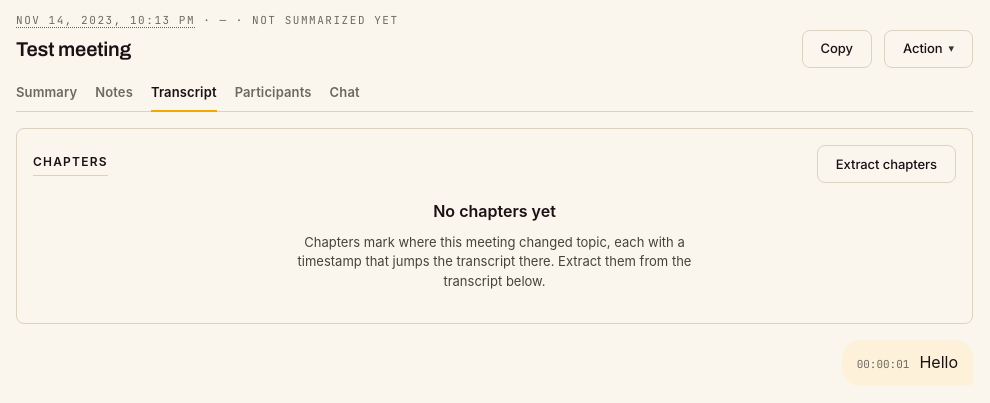
Test case: SummaryPane regen-summary style flyout › no title-row style dropdown; flyout disabled without a summary
The width and height of the screenshot is (990, 403).
What coordinates should you click on to do the following:
click the button "Action ▾"
I would click on:
 (928, 49)
Its box is [884,30,973,68].
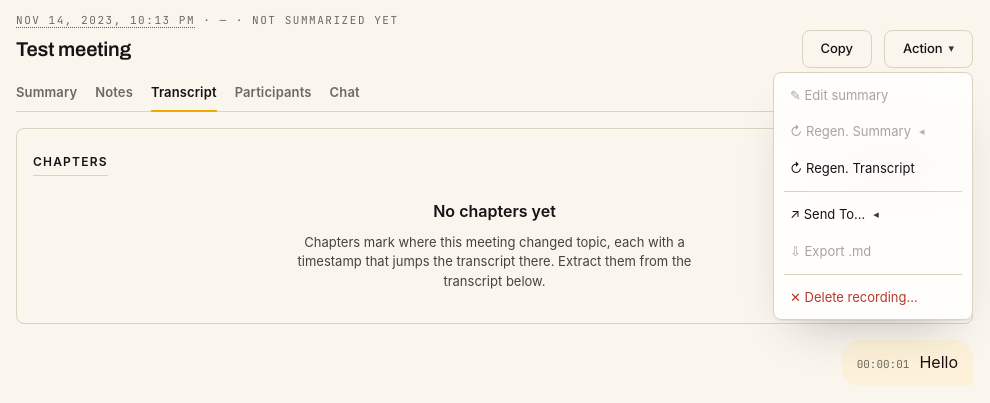
expect the menu item "↻ Regen. Summary ◂" is disabled: met, box [778,113,968,150]
